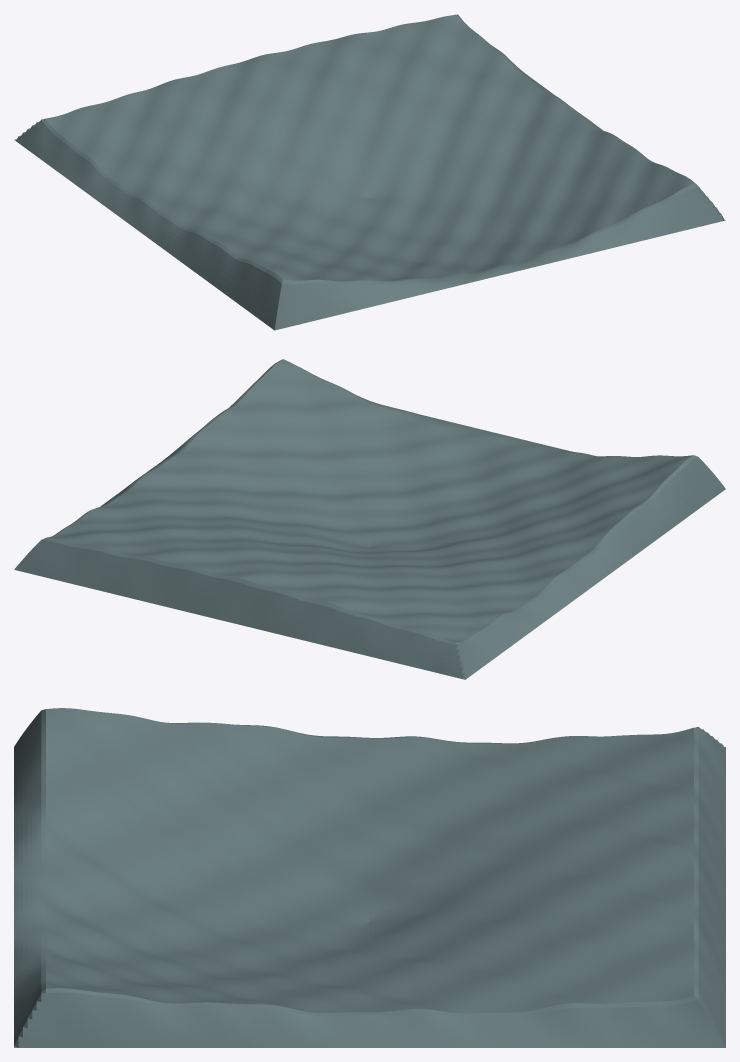
The model's file is pine_mist_basin.obj.
3 renders of one model, top to bottom at view 1: azimuth 30°, elevation 25°; view 2: azimuth 150°, elevation 25°; view 3: azimuth 270°, elevation 25°, orthographic. The views are drawn at different scales.
Visible parts, largest first — view 1: pine_mist_basin; view 2: pine_mist_basin; view 3: pine_mist_basin.
Part boxes in pixels (bbox=[...]): pine_mist_basin: bbox=[14, 14, 725, 330]; pine_mist_basin: bbox=[14, 359, 725, 679]; pine_mist_basin: bbox=[14, 708, 725, 1047].
Bounding box in the file's own units: 160 × 20.43 × 160.
